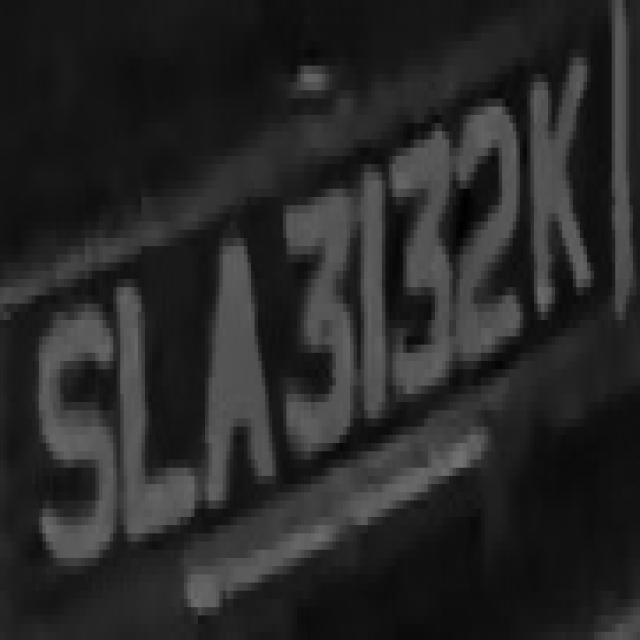1: (336, 107, 392, 492)
2: (445, 107, 527, 386)
3: (268, 172, 354, 476), (368, 148, 446, 418)
A: (187, 189, 283, 525)
K: (502, 8, 601, 353)
L: (99, 271, 202, 558)
S: (24, 279, 110, 591)
